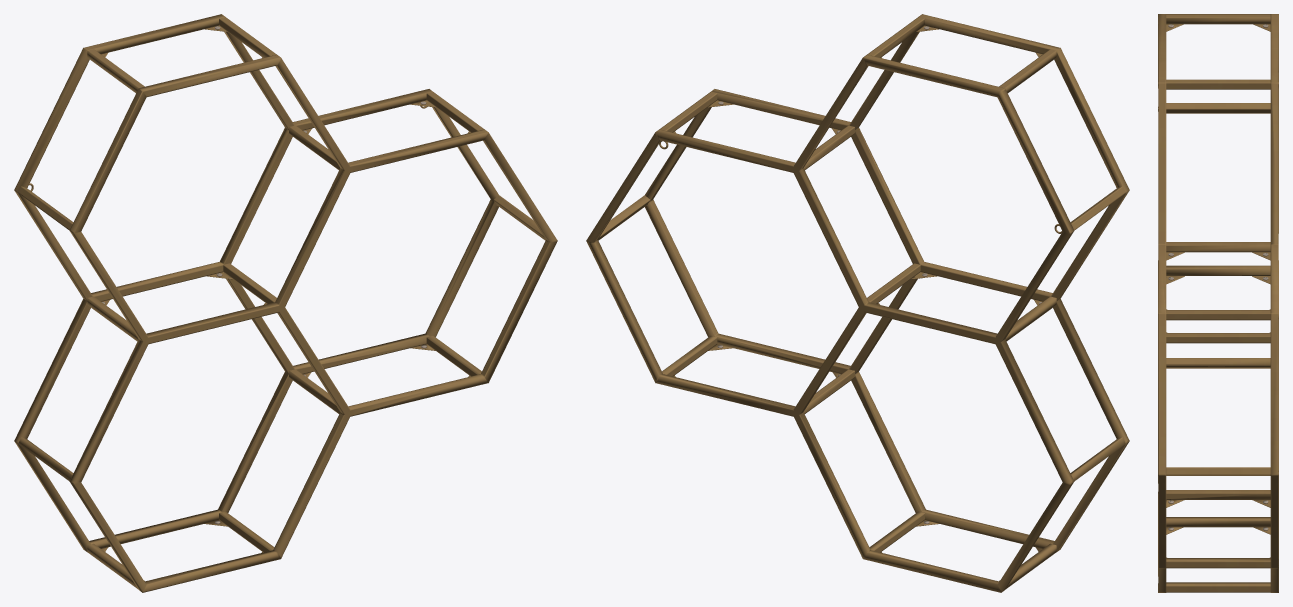
File: abo-b07hsphzxd.59e424456e.glb
3 views of the same model, side by side, from view 1: azimuth 30°, elevation 25°; view 2: azimuth 150°, elevation 25°; view 3: azimuth 270°, elevation 25° (orthographic).
Visible parts, largest first — view 1: RootNode; view 2: RootNode; view 3: RootNode.
Part boxes in pixels (x1,y1,x2,y2): RootNode: (14,14,557,592); RootNode: (586,14,1129,592); RootNode: (1158,14,1278,592).
Size of the model in its own units: 0.7077 by 0.7008 by 0.1502.
1 material, 1 textured.
